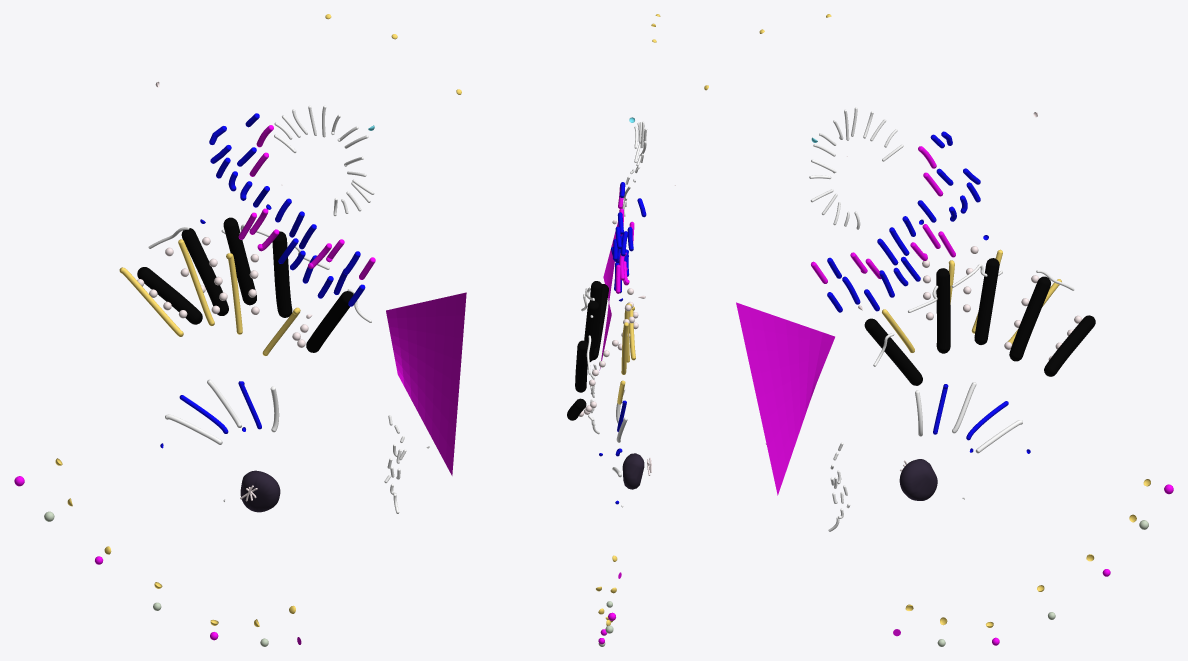
The model's file is Matiblendlocationtest.glb.
The picture shows the model from 3 angles, left to right: view 1: azimuth 30°, elevation 25°; view 2: azimuth 150°, elevation 25°; view 3: azimuth 270°, elevation 25°; orthographic projection. The views are drawn at different scales.
Visible parts, largest first — view 1: Mati013D.obj.104, Mati013D.obj.326, Mati013D.obj.328, Mati013D.obj.330, Mati013D.obj.324, Mati013D.obj.332; view 2: Mati013D.obj.104, Mati013D.obj.326, Mati013D.obj.328, Mati013D.obj.332, Mati013D.obj.330; view 3: Mati013D.obj.104, Mati013D.obj.326, Mati013D.obj.328, Mati013D.obj.330, Mati013D.obj.332, Mati013D.obj.324.
Boxes of the visible parts, x1=… form: Mati013D.obj.104: x1=240, y1=470, x2=280, y2=512; Mati013D.obj.326: x1=183, y1=232, x2=228, y2=315; Mati013D.obj.328: x1=224, y1=223, x2=256, y2=305; Mati013D.obj.330: x1=272, y1=239, x2=292, y2=317; Mati013D.obj.324: x1=141, y1=268, x2=202, y2=324; Mati013D.obj.332: x1=306, y1=295, x2=350, y2=352; Mati013D.obj.104: x1=622, y1=453, x2=644, y2=489; Mati013D.obj.326: x1=575, y1=346, x2=587, y2=392; Mati013D.obj.328: x1=584, y1=307, x2=598, y2=361; Mati013D.obj.332: x1=593, y1=288, x2=608, y2=360; Mati013D.obj.330: x1=589, y1=287, x2=602, y2=348; Mati013D.obj.104: x1=899, y1=459, x2=937, y2=500; Mati013D.obj.326: x1=1009, y1=281, x2=1050, y2=361; Mati013D.obj.328: x1=974, y1=264, x2=999, y2=344; Mati013D.obj.330: x1=936, y1=275, x2=950, y2=353; Mati013D.obj.332: x1=866, y1=321, x2=922, y2=385; Mati013D.obj.324: x1=1044, y1=317, x2=1094, y2=376.
Size of what is drawn, in the model's own units: 57.56 by 138 by 91.37.
